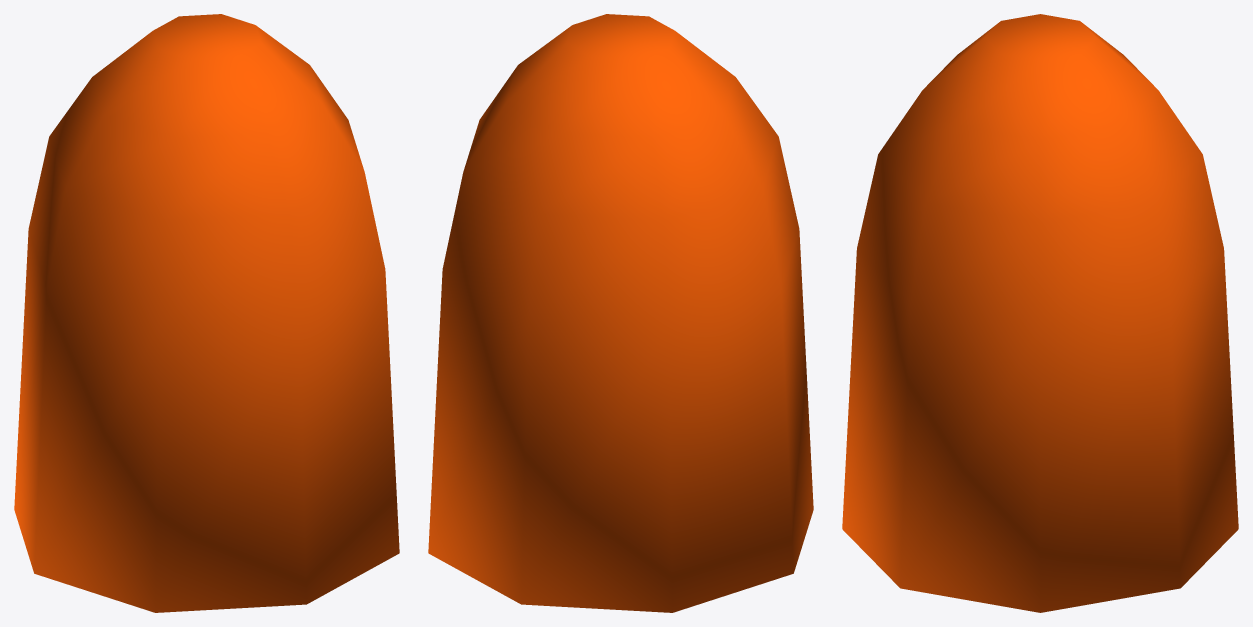
Rendered from Bullet_Tip.fbx.
The picture shows the model from 3 angles, left to right: view 1: azimuth 30°, elevation 25°; view 2: azimuth 150°, elevation 25°; view 3: azimuth 270°, elevation 25°; orthographic projection.
Visible parts, largest first — view 1: Bullet; view 2: Bullet; view 3: Bullet.
Boxes of the visible parts, x1,y1,x2,y2 form: Bullet: (14, 14, 399, 612); Bullet: (428, 14, 813, 612); Bullet: (842, 14, 1238, 612).
Size of the model in its own units: 11.19 by 15.3 by 11.19.
